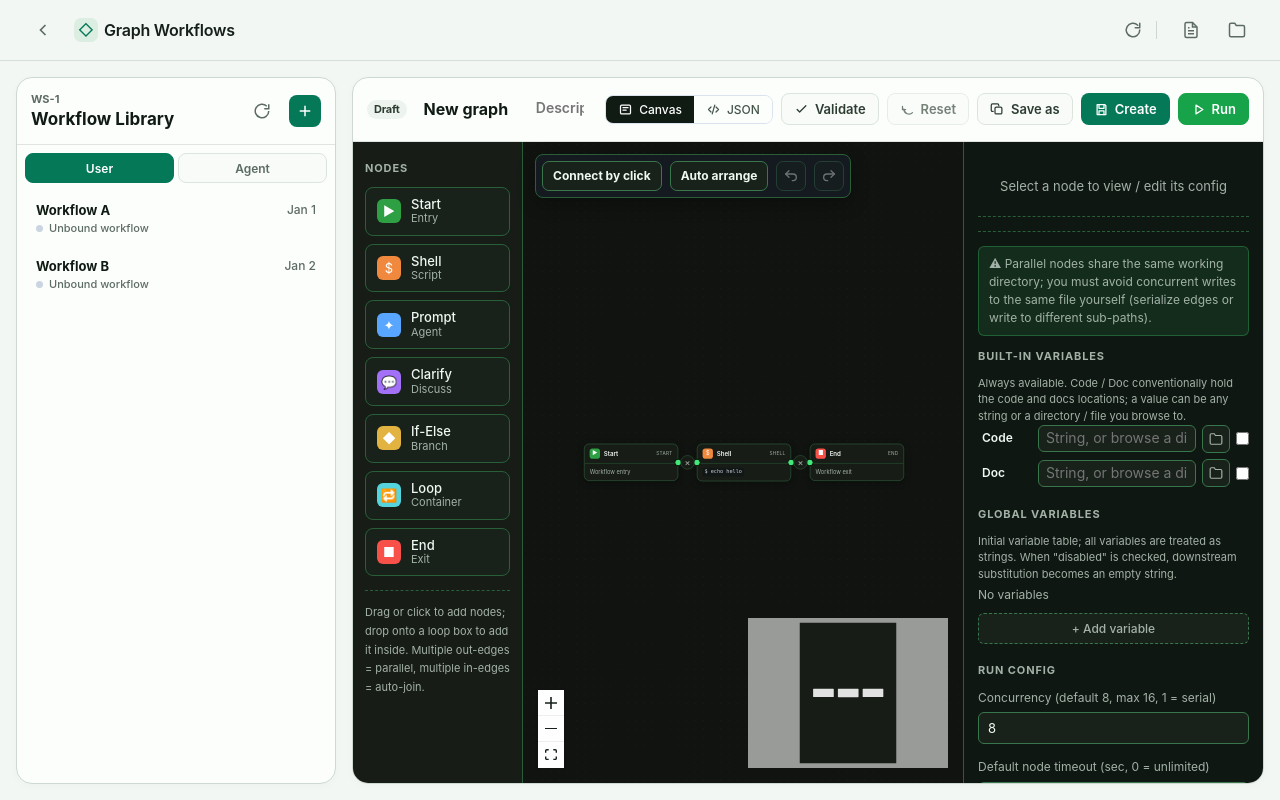
GraphWorkflowPage JSON view lifecycle › resets the JSON view when switching to another workflow
Click the button with test id "graph-workflow-row-wf-a". click: {"x": 73, "y": 210}
box: [25,191,327,247]
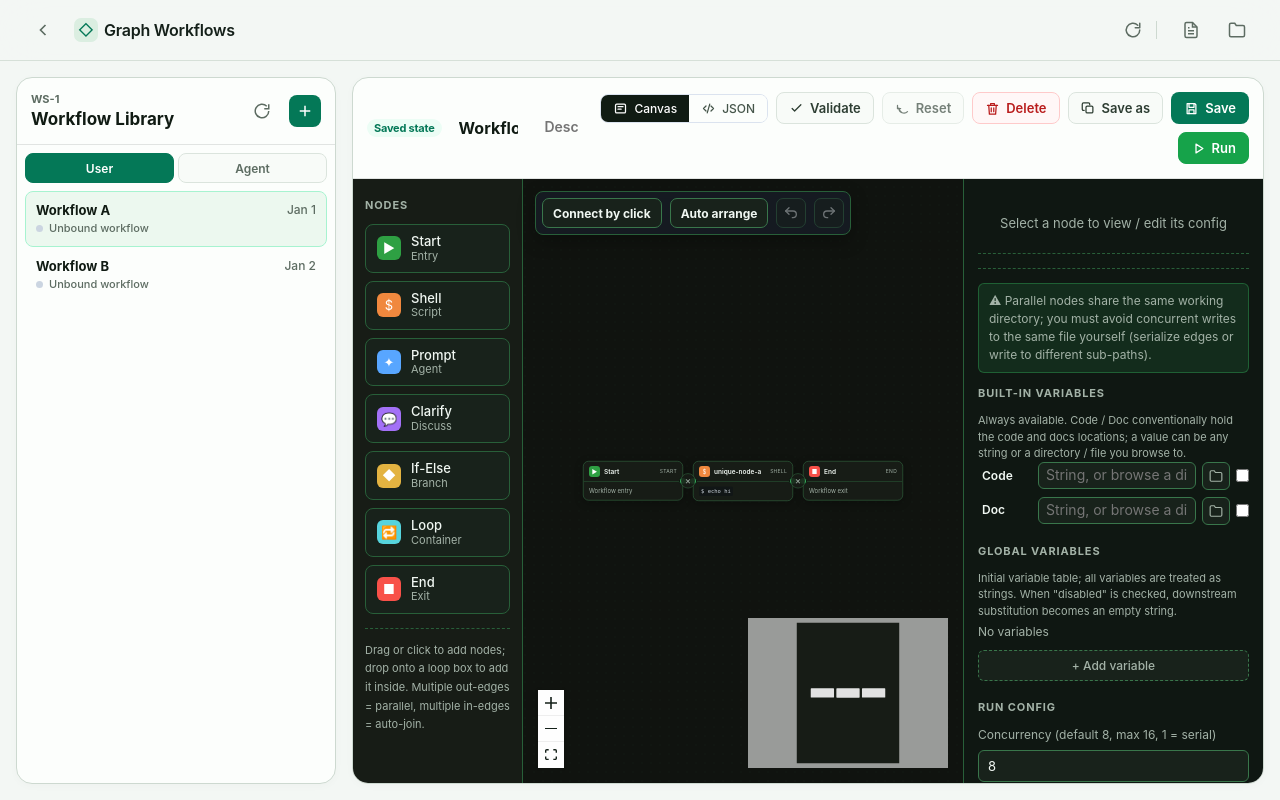
Now the field with test id "graph-name-input" holds "Workflow A", box [450,111,527,145]
Click the button with test id "graph-view-json". click: {"x": 728, "y": 108}
box: [689,94,767,122]
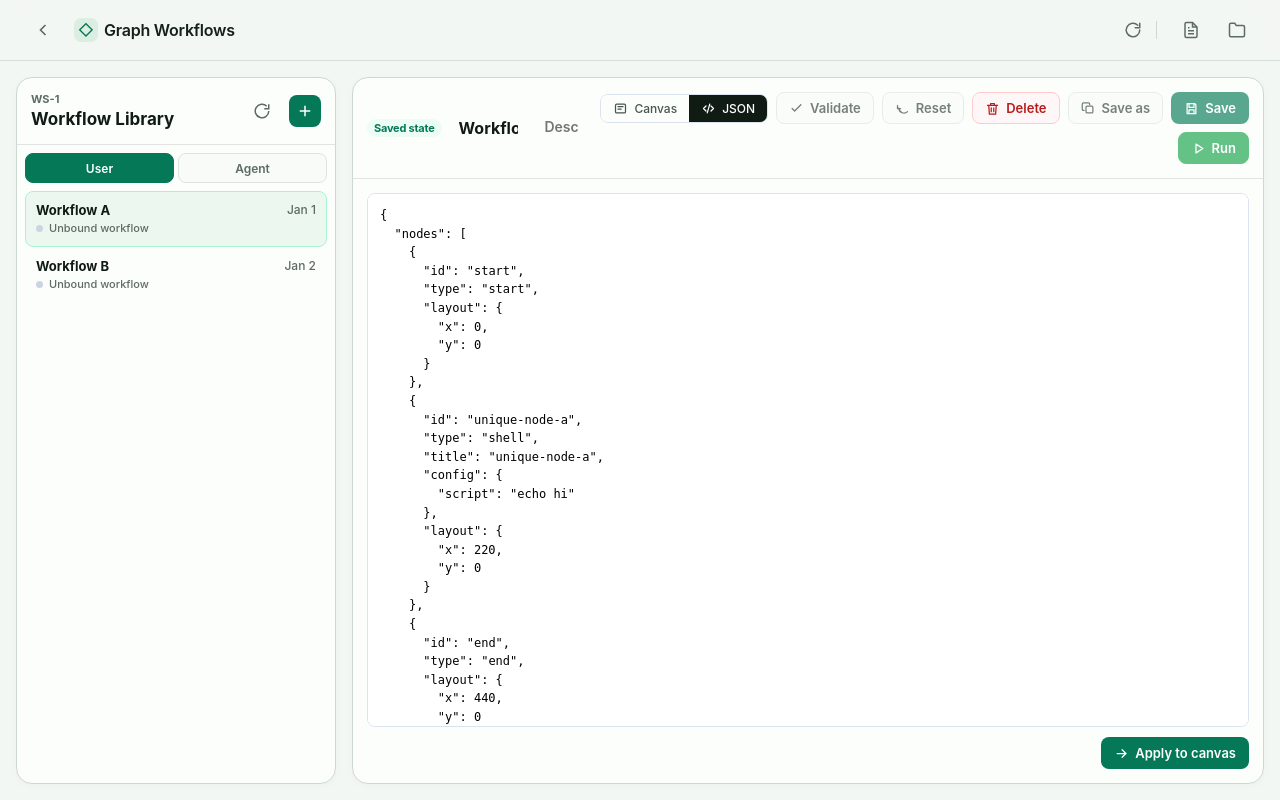
Click the button with test id "graph-workflow-row-wf-b". click: {"x": 73, "y": 266}
box: [25,247,327,303]
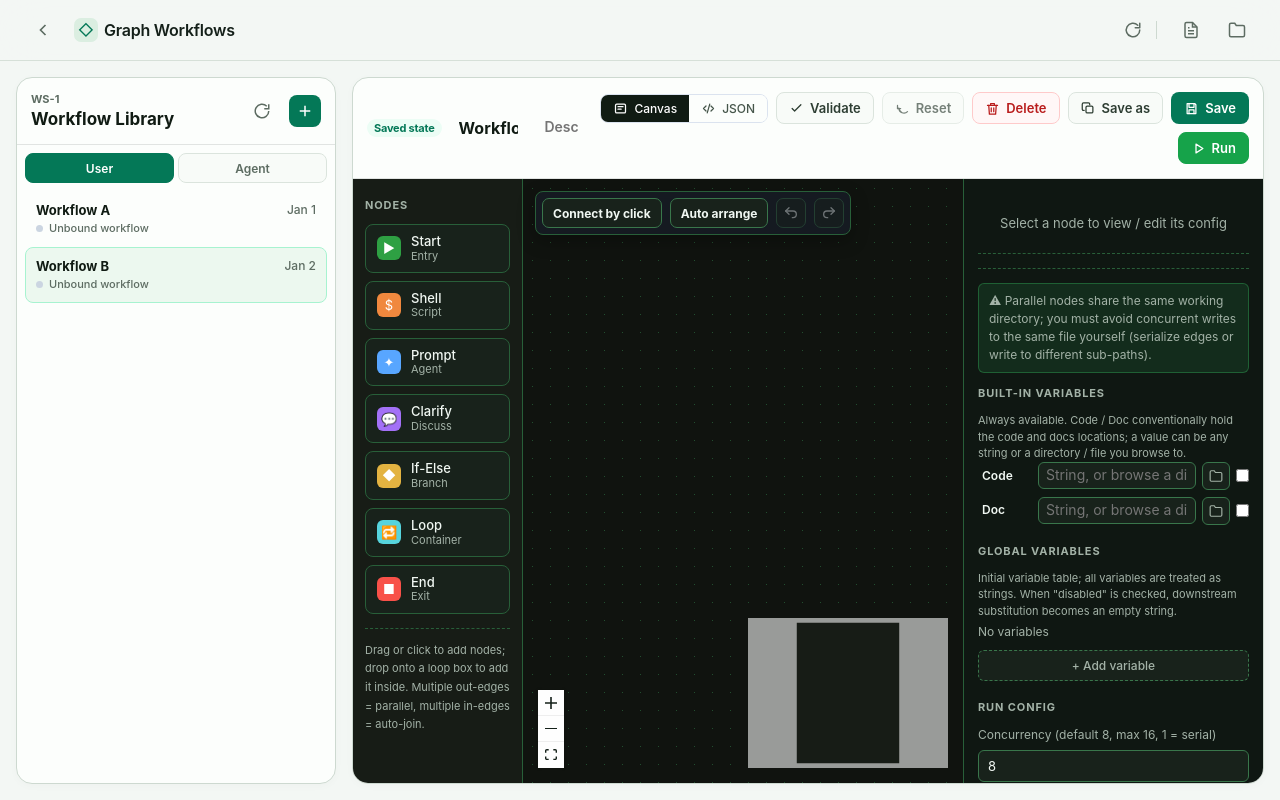
Expected: the field with test id "graph-name-input" holds "Workflow B", [450,111,527,145]
Now the text box with test id "graph-json-textarea" is gone
